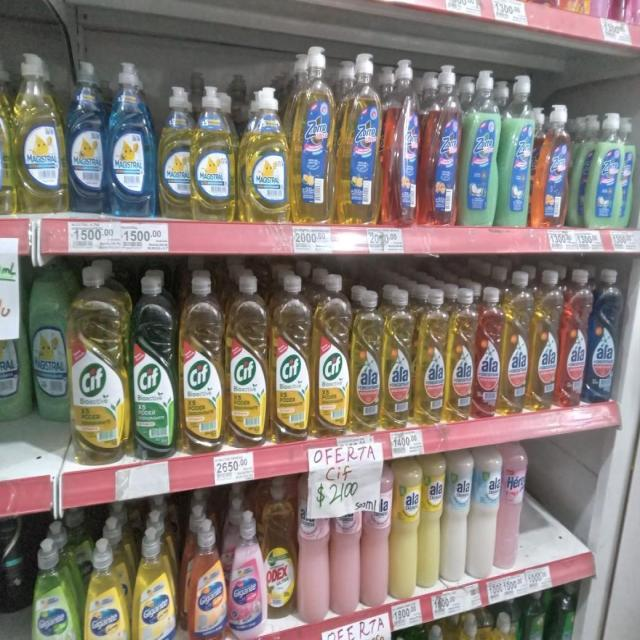ala_conc_amarillo: (382, 285, 413, 430), (351, 285, 381, 432), (416, 286, 446, 425), (502, 271, 529, 416), (531, 269, 558, 412), (447, 286, 474, 422)
ala_conc_azul: (588, 268, 622, 404)
ala_conc_rojo: (559, 268, 588, 409), (476, 286, 502, 420)
ala_crem_amarillo: (391, 456, 419, 600), (419, 453, 443, 591)
ala_crem_blanco: (471, 446, 499, 580), (444, 450, 470, 584)
ala_crem_rosado: (297, 472, 330, 622), (331, 471, 361, 616), (362, 460, 391, 608)
cif_conc_bot_amarilla: (70, 261, 129, 465), (180, 272, 224, 454), (226, 272, 268, 447), (270, 272, 310, 443), (312, 273, 350, 437)
cif_conc_botella_verde: (131, 269, 177, 459)
gigante: (184, 515, 226, 640), (32, 537, 81, 640), (134, 524, 176, 640), (84, 537, 130, 640), (228, 509, 264, 639)
heroe: (499, 443, 526, 572)
magistral_con_amarillo: (15, 52, 64, 215), (240, 85, 289, 224), (193, 83, 237, 221), (158, 84, 192, 220), (0, 45, 13, 215), (488, 611, 518, 640), (421, 623, 450, 640)
magistral_con_azul: (109, 60, 155, 218), (67, 59, 107, 215)
magistral_con_crema: (31, 257, 69, 422), (0, 257, 29, 423)
odex: (264, 477, 296, 621)
zorro: (337, 50, 381, 225), (291, 45, 334, 224), (383, 55, 419, 227), (422, 62, 459, 226), (461, 68, 498, 228), (500, 72, 532, 228), (534, 102, 569, 229), (589, 112, 620, 230), (570, 111, 592, 228), (618, 113, 634, 229), (635, 112, 640, 229)
